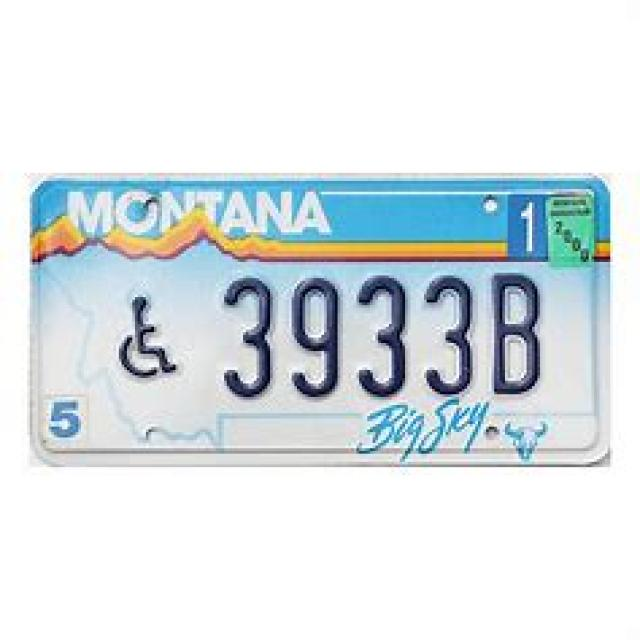car-handicap-placard: (115, 291, 182, 385)
